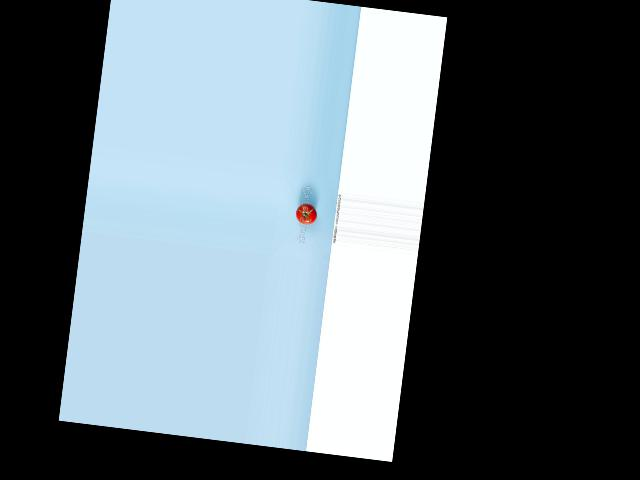tomato: (295, 203, 318, 225)
